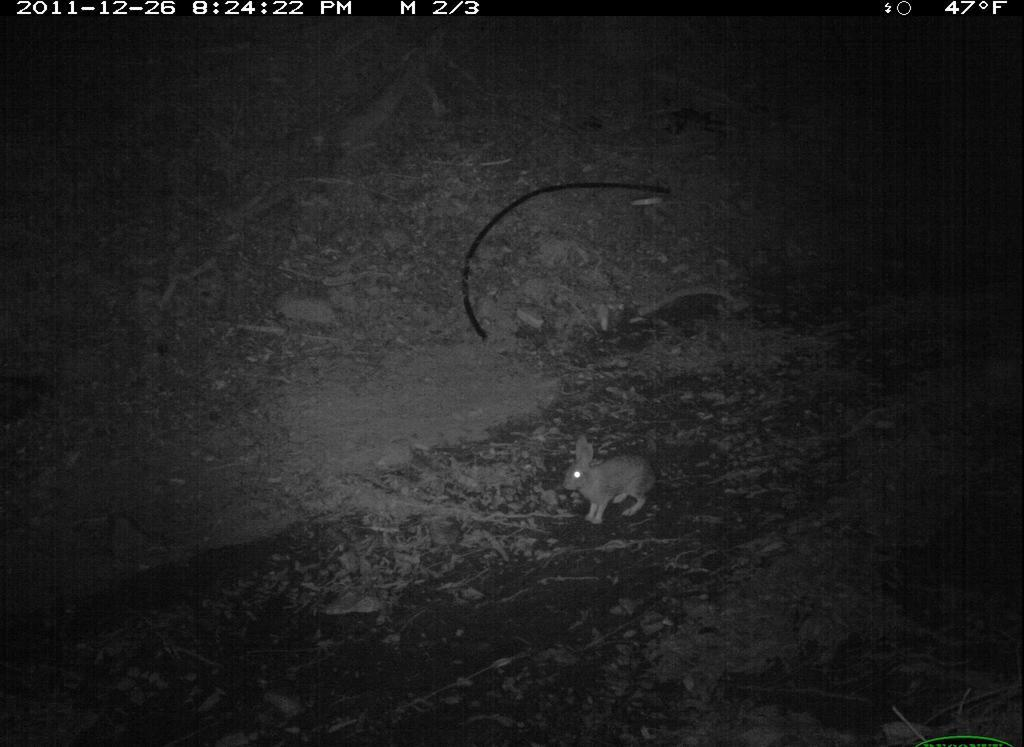rabbit: (553, 428, 662, 536)
